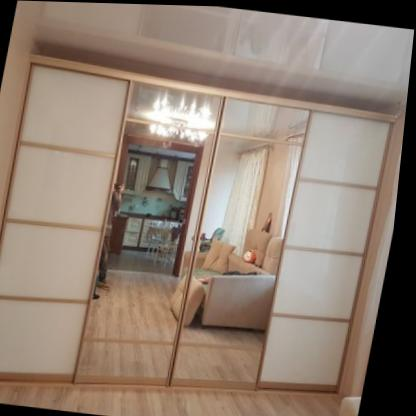Closet: (0, 64, 402, 394)
Wooden floor: (0, 377, 370, 416)
